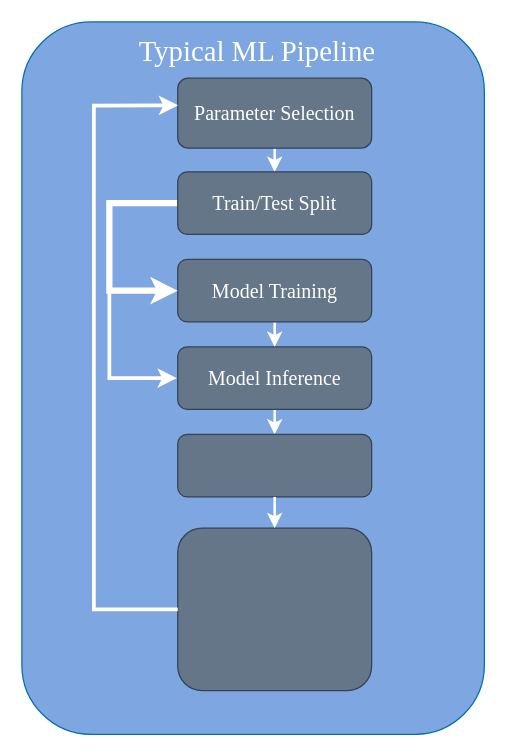
Some shapes in this 506 by 756 pixel diagram are drawn without their labels. Each missing label, with the centre of its shape:
"Model Outputs" goes at (274,465).
"Scoring and Optimization" goes at (274,609).
